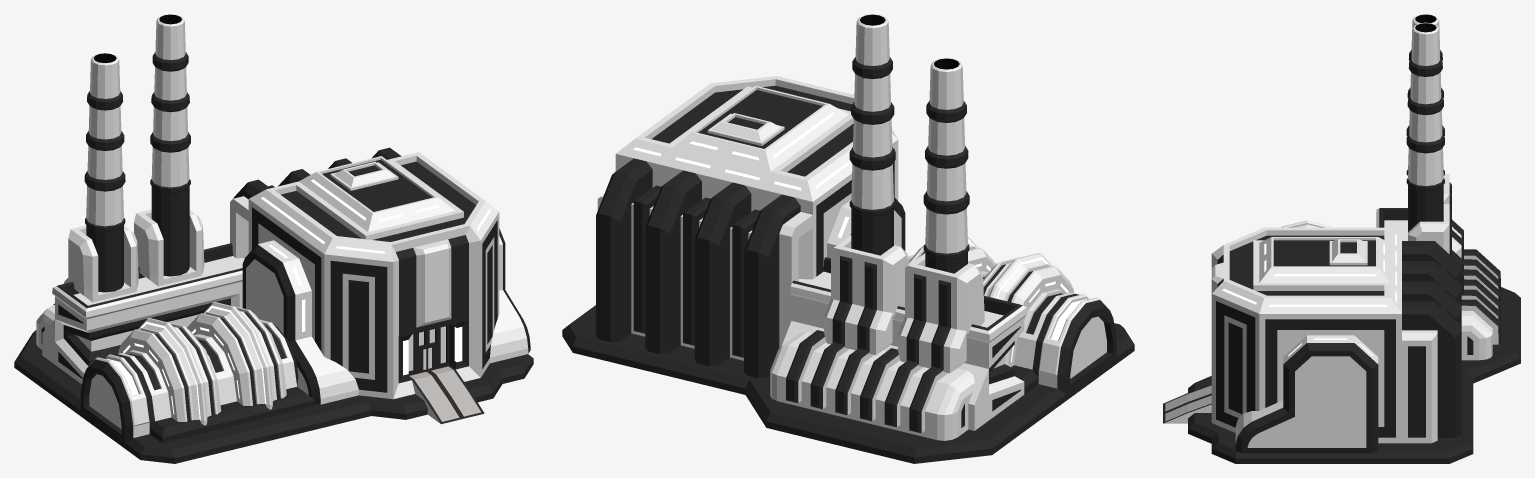
The model's file is coal_power_plant_01.glb.
3 renders of one model, left to right at view 1: azimuth 30°, elevation 25°; view 2: azimuth 150°, elevation 25°; view 3: azimuth 270°, elevation 25°, orthographic. The views are drawn at different scales.
Visible parts, largest first — view 1: CoalPowerStation_Body, CoalPowerStation_Chimneys, CoalPowerStation_Generator, CoalPowerStation_ChimneyBody, CoalPowerStation_Foundation, CoalPowerStation_BodySideParts, CoalPowerStation_GeneratorFoundation, CoalPowerStation_BodyPart, CoalPowerStation_MainDoor; view 2: CoalPowerStation_BodyPart, CoalPowerStation_Chimneys, CoalPowerStation_Body, CoalPowerStation_ChimneyBody, CoalPowerStation_Foundation, CoalPowerStation_Generator, CoalPowerStation_BodySideParts; view 3: CoalPowerStation_Body, CoalPowerStation_BodySideParts, CoalPowerStation_BodyPart, CoalPowerStation_Chimneys, CoalPowerStation_Foundation, CoalPowerStation_ChimneyBody.
Part boxes in pixels (box(x1,y1,x2,y2)): CoalPowerStation_Body: box(248, 152, 499, 424); CoalPowerStation_Chimneys: box(63, 14, 204, 302); CoalPowerStation_Generator: box(80, 302, 298, 442); CoalPowerStation_ChimneyBody: box(36, 243, 242, 384); CoalPowerStation_Foundation: box(14, 330, 533, 463); CoalPowerStation_BodySideParts: box(242, 228, 530, 404); CoalPowerStation_GeneratorFoundation: box(149, 387, 315, 443); CoalPowerStation_BodyPart: box(230, 147, 401, 262); CoalPowerStation_MainDoor: box(416, 345, 438, 372); CoalPowerStation_BodyPart: box(596, 158, 812, 378); CoalPowerStation_Chimneys: box(824, 14, 984, 373); CoalPowerStation_Body: box(615, 76, 898, 278); CoalPowerStation_ChimneyBody: box(770, 257, 1027, 440); CoalPowerStation_Foundation: box(562, 305, 1134, 463); CoalPowerStation_Generator: box(908, 236, 1116, 393); CoalPowerStation_BodySideParts: box(827, 197, 905, 258); CoalPowerStation_Body: box(1163, 227, 1401, 443); CoalPowerStation_BodySideParts: box(1235, 335, 1378, 453); CoalPowerStation_BodyPart: box(1402, 241, 1461, 443); CoalPowerStation_Chimneys: box(1406, 14, 1463, 294); CoalPowerStation_Foundation: box(1188, 287, 1520, 463); CoalPowerStation_ChimneyBody: box(1376, 208, 1500, 360).
Size of the model in its own units: 13.65 by 11.11 by 11.41.
Materials: 1 (1 with a texture image).
